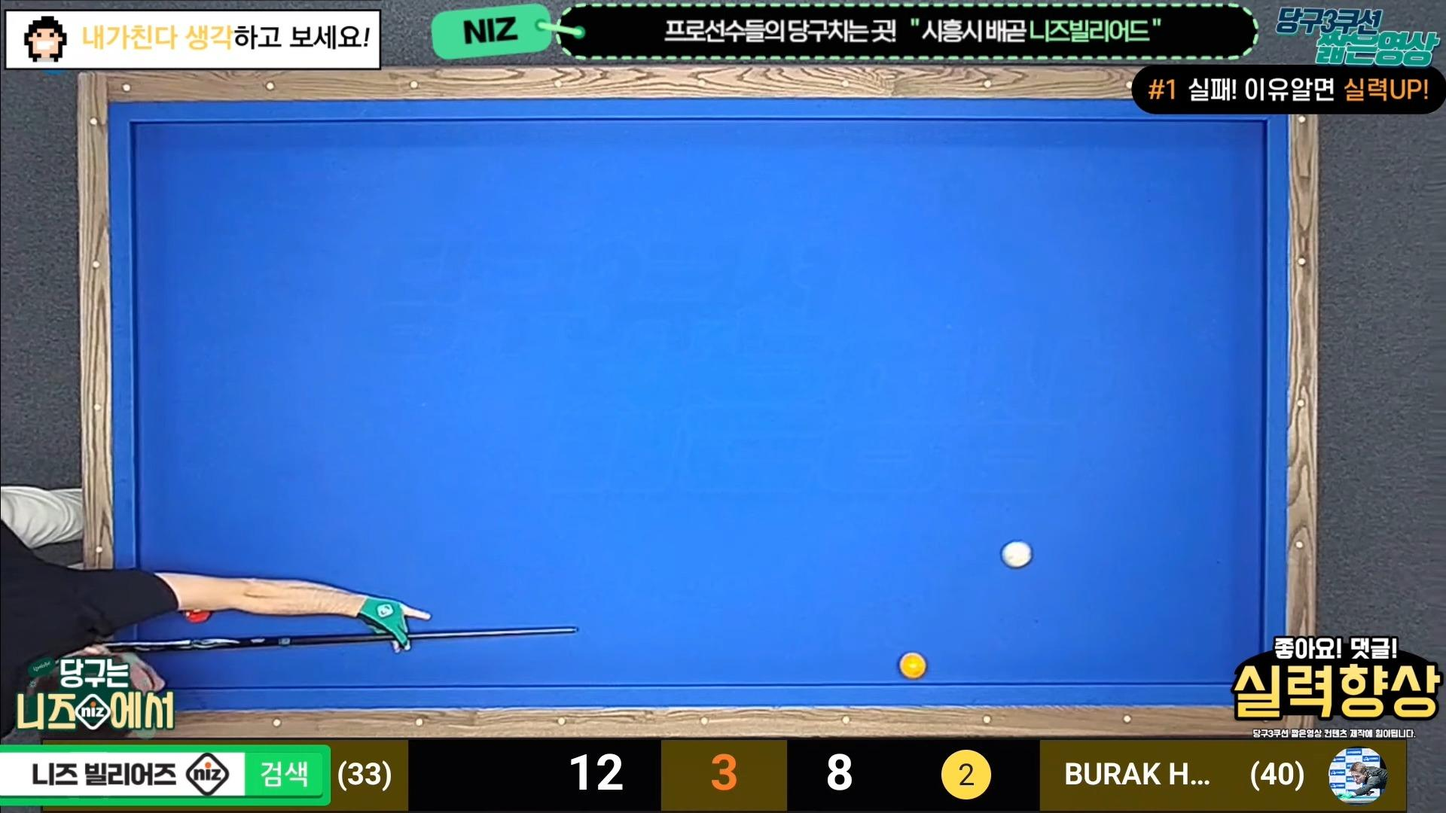billiard-ball-Yellow: (895, 648, 932, 684)
billiard-ball-white: (1000, 540, 1032, 569)
